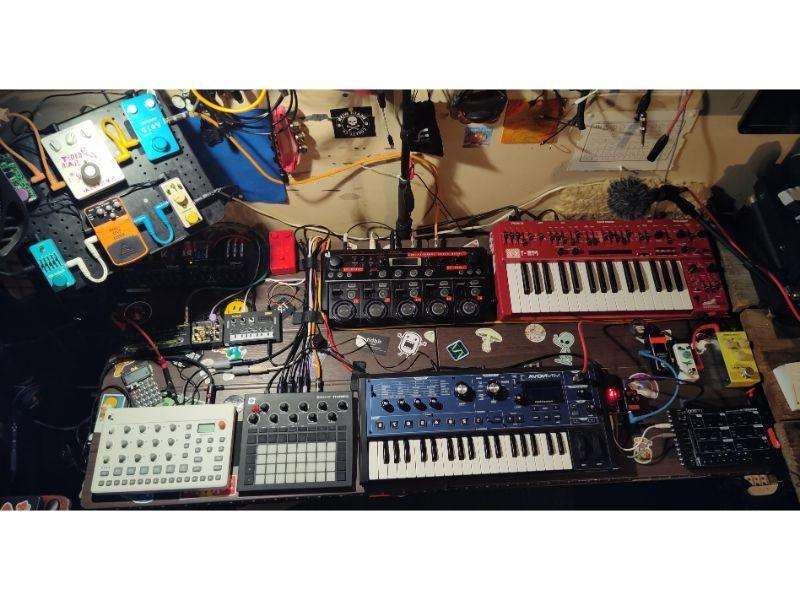synthesizer: (365, 362, 582, 484), (490, 210, 726, 318)
